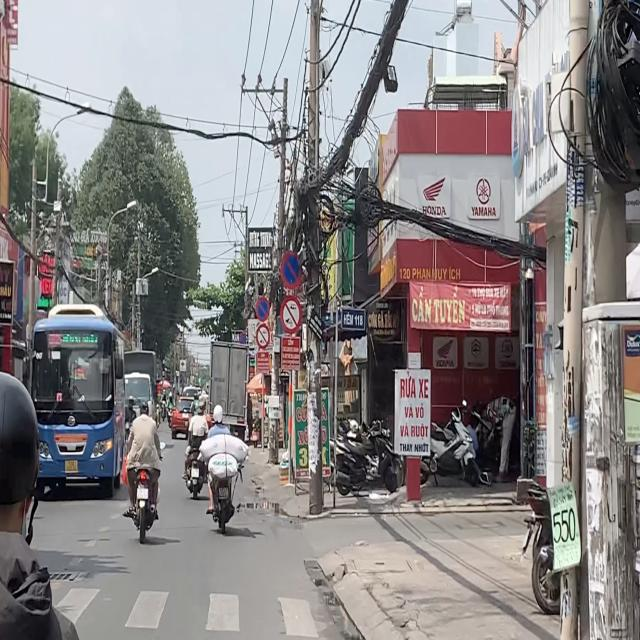Cam do: (280, 251, 303, 290), (255, 296, 270, 322)
